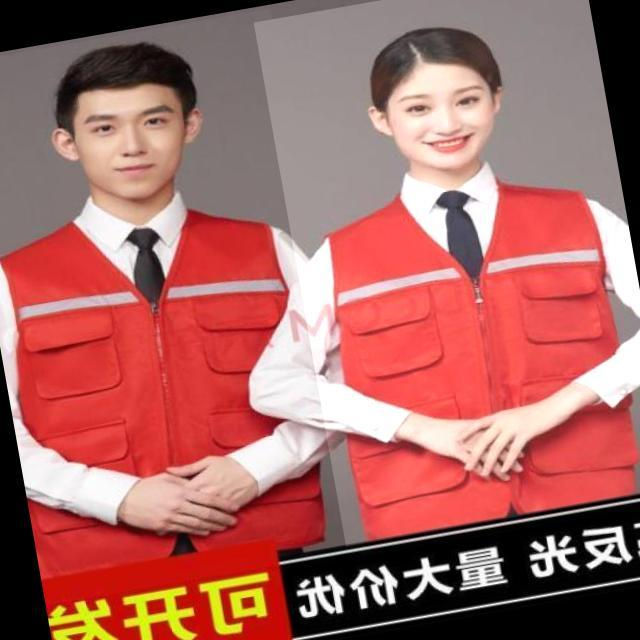Person: (4, 44, 332, 626), (339, 29, 639, 530)
Safety Vest: (0, 177, 341, 585), (313, 153, 640, 540)
bare-arms: (433, 400, 558, 498), (121, 461, 259, 537)
no-helmet: (55, 50, 192, 92), (369, 30, 489, 67)
